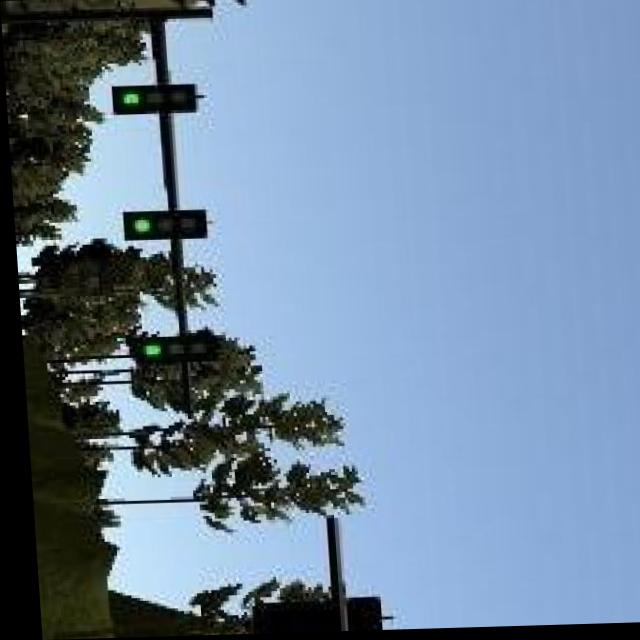green light: (119, 208, 204, 243), (110, 84, 197, 112), (124, 335, 213, 361)
